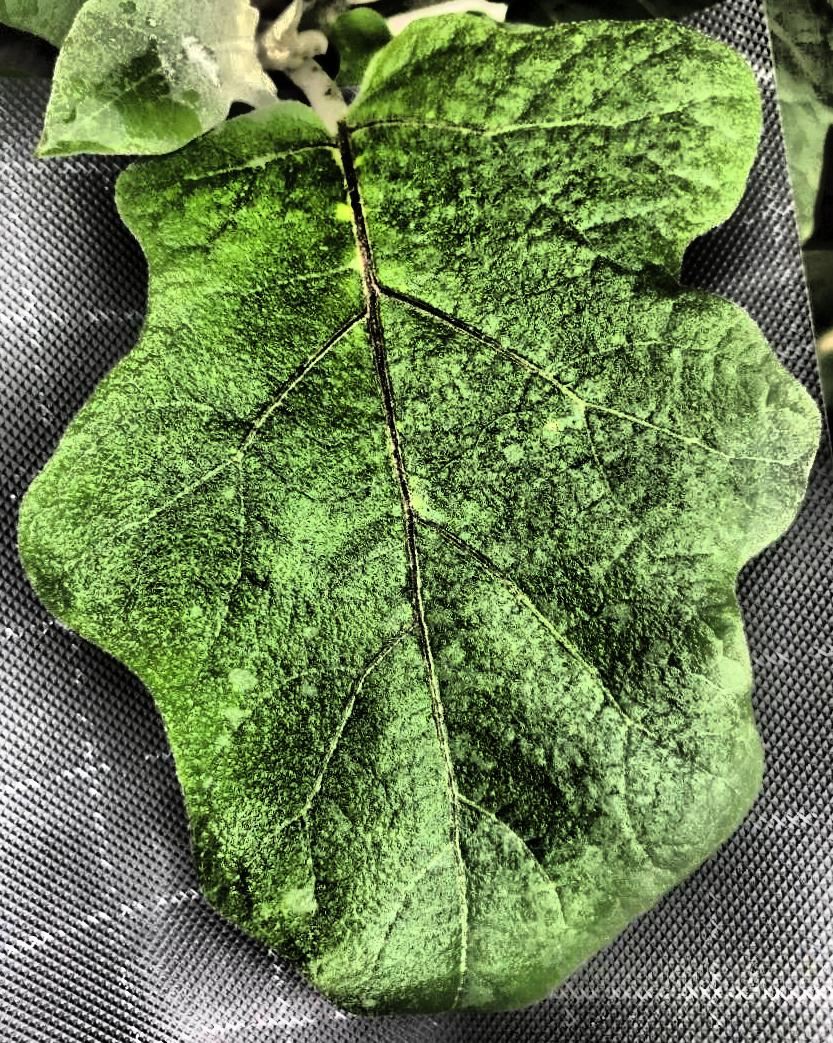HEALTHY: (1, 0, 833, 1043)
